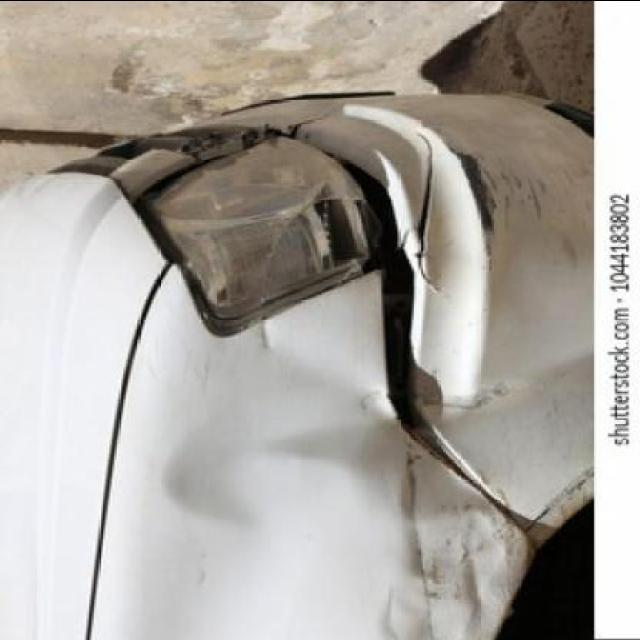Headlight-Damage: (128, 118, 384, 345)
fender-dent: (96, 328, 501, 640)
front-bumper-dent: (376, 67, 609, 500)
